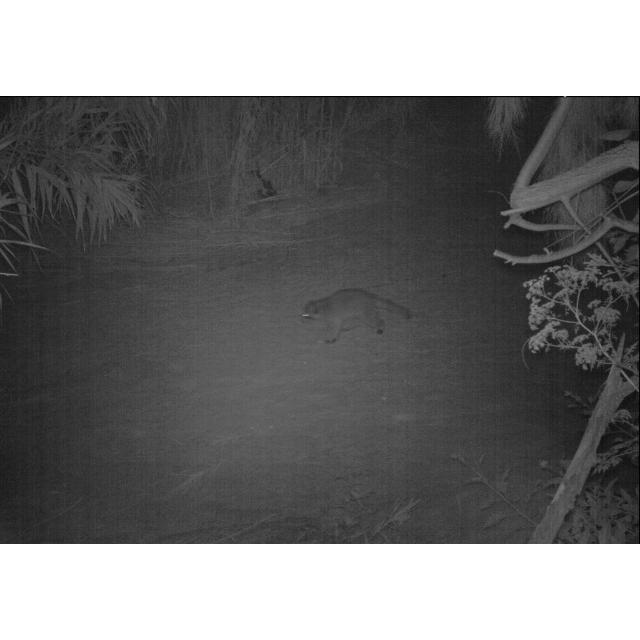animals: (295, 280, 419, 352)
